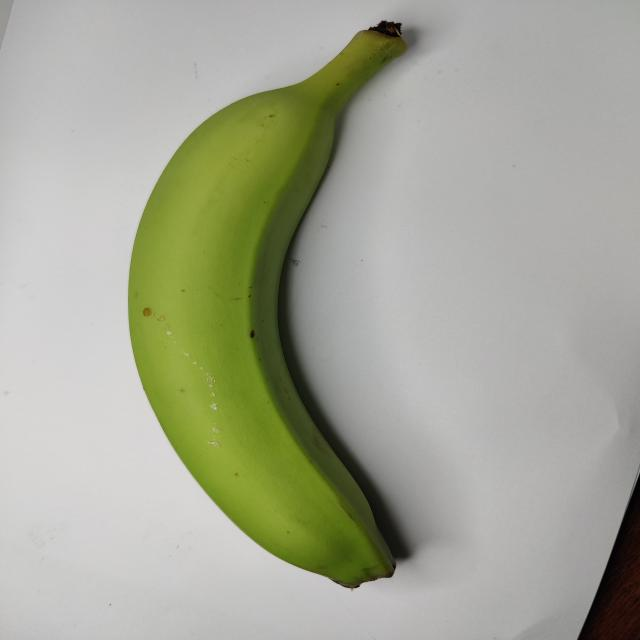raw: (72, 16, 513, 597)
